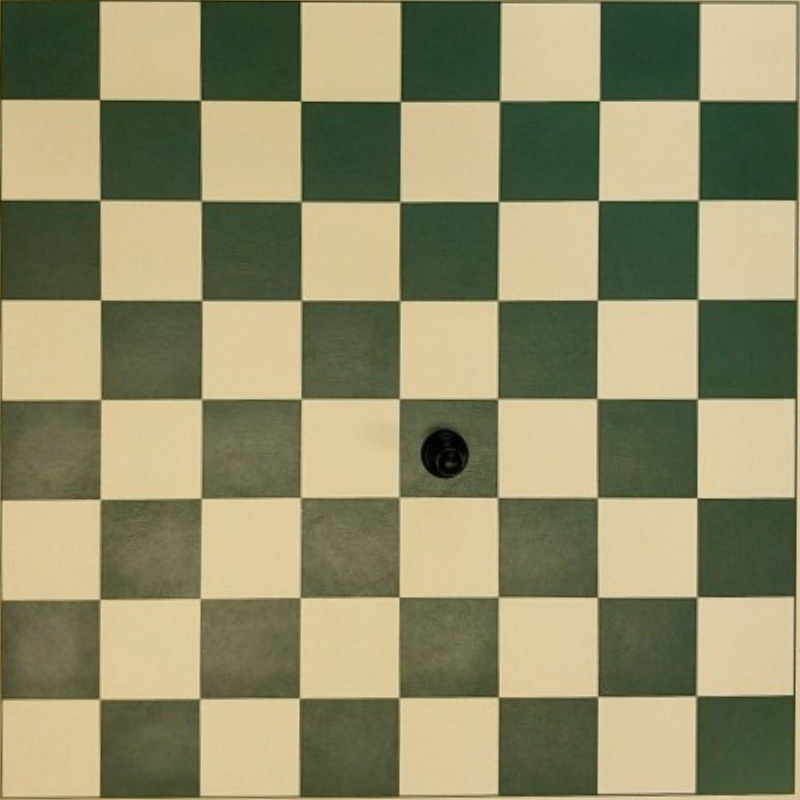black-pawn: (420, 427, 470, 479)
